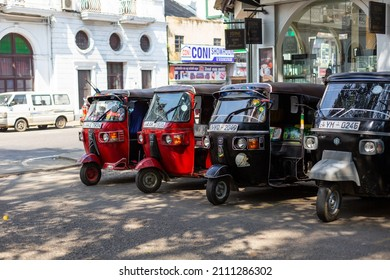threewheel: (200, 82, 316, 206), (303, 72, 390, 222), (134, 84, 211, 195), (78, 89, 147, 185)
van: (1, 91, 76, 131)
